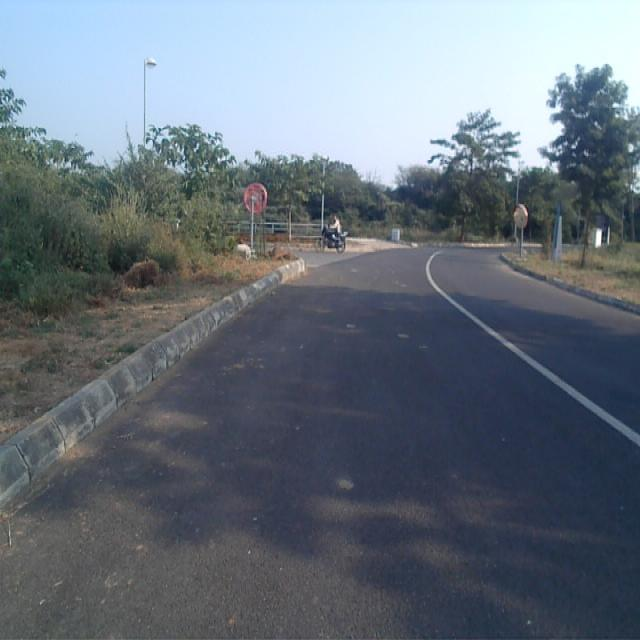lane: (0, 247, 639, 640)
